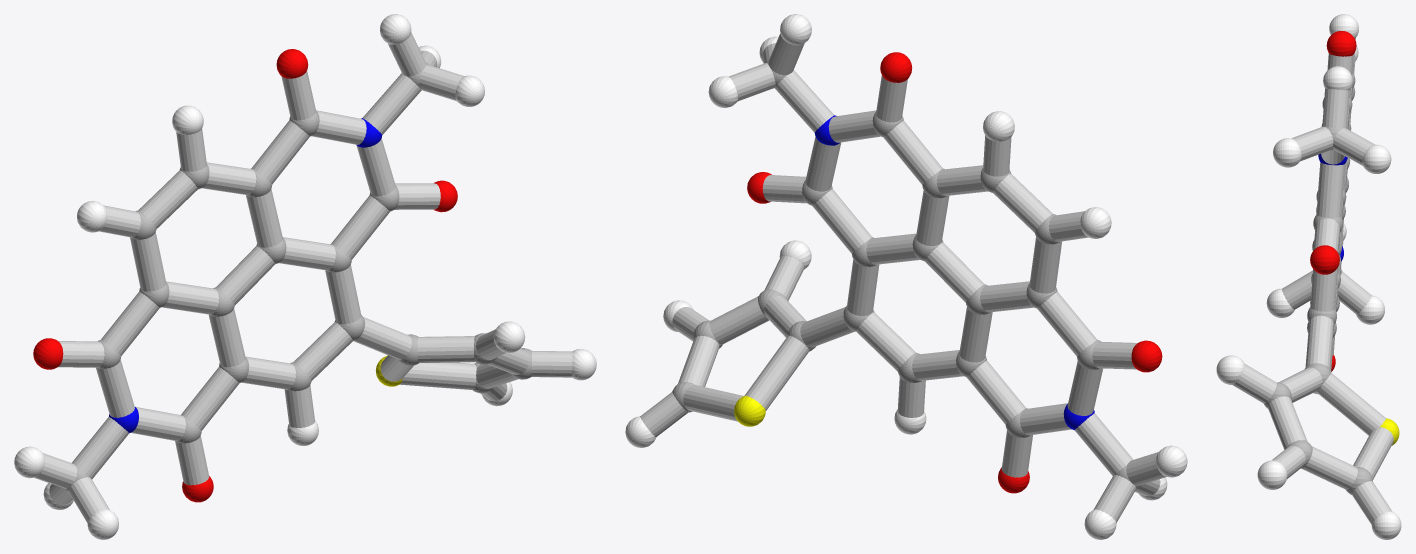
The model's file is Dimethyl_Naphthalene_Dicarboximide_Phi_10_Theta_60_Thiophene.glb.
3 views of the same model, side by side, from view 1: azimuth 30°, elevation 25°; view 2: azimuth 150°, elevation 25°; view 3: azimuth 270°, elevation 25° (orthographic). The views are drawn at different scales.
Parts seen in each view (by area): view 1: grp14119, grp7241, grp1, grp12309, grp11585; view 2: grp14119, grp7241, grp1, grp12309, grp13757, grp11585; view 3: grp14119, grp7241, grp1, grp12309, grp13757.
Part boxes in pixels (<box>): grp14119: <box>34,32,572,522</box>; grp7241: <box>14,14,596,539</box>; grp1: <box>63,62,531,492</box>; grp12309: <box>33,49,457,502</box>; grp11585: <box>109,118,382,433</box>; grp14119: <box>640,33,1166,522</box>; grp7241: <box>625,14,1187,539</box>; grp1: <box>672,60,1141,488</box>; grp12309: <box>747,52,1162,493</box>; grp13757: <box>734,395,765,426</box>; grp11585: <box>814,115,1094,430</box>; grp14119: <box>1232,38,1393,524</box>; grp7241: <box>1216,14,1401,539</box>; grp1: <box>1264,73,1372,494</box>; grp12309: <box>1310,31,1356,371</box>; grp13757: <box>1380,418,1399,445</box>.
Size of the model in its own units: 11.94 by 9.17 by 3.72.
